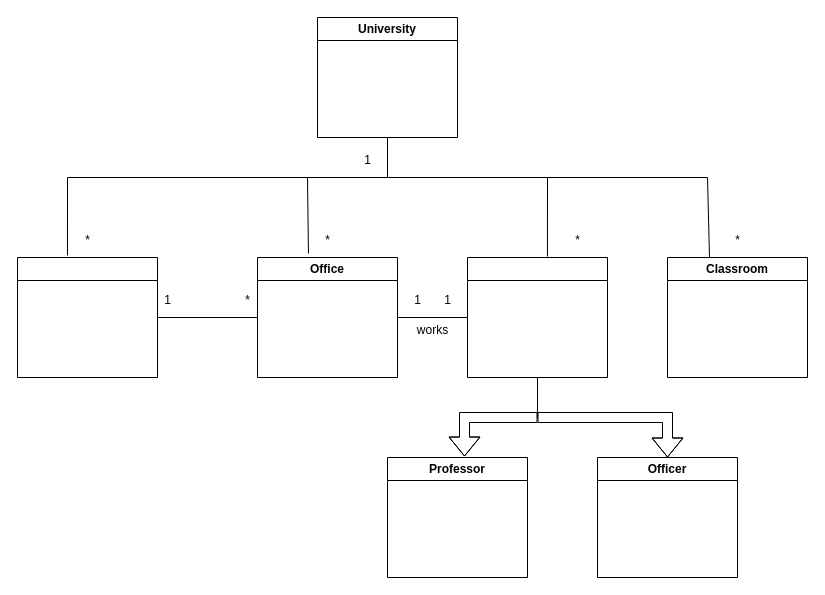
Some shapes in this 825 by 595 pixel diagram are drawn without their labels. The shapes that lost their labels are listed below. From the top down, each one's centre as x and y in pixels, then its label:
At (87,317): "Department".
At (537,317): "Employee".
